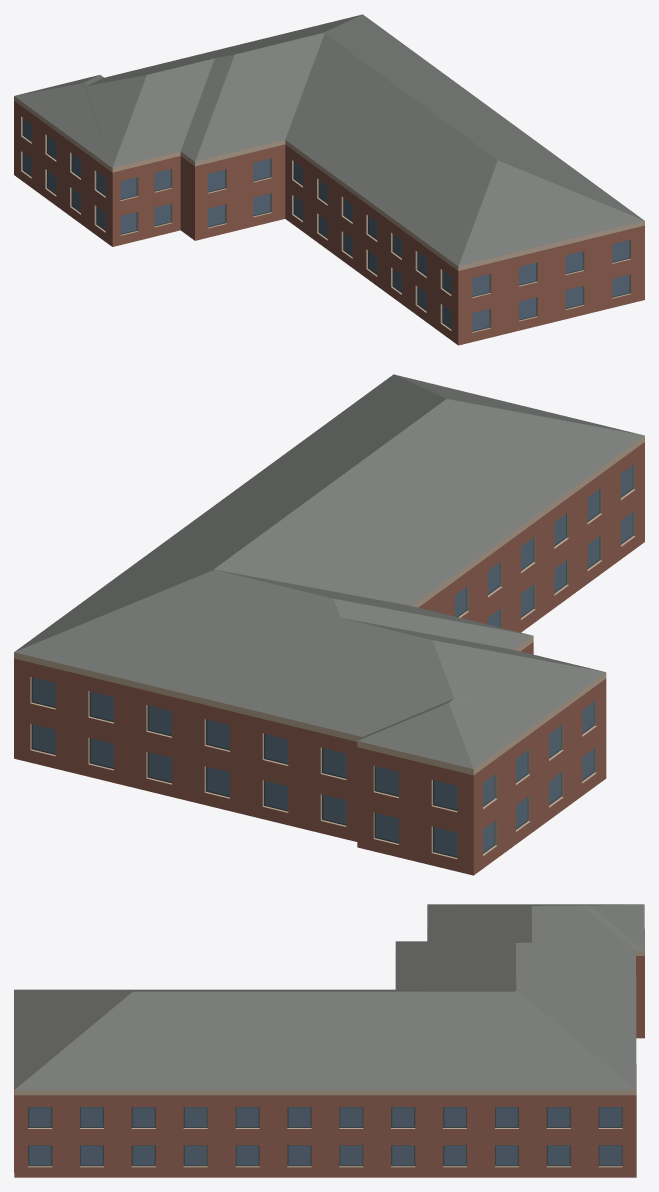
Rendered from dc-au-roper-hall.detail.glb.
3 renders of one model, top to bottom at view 1: azimuth 30°, elevation 25°; view 2: azimuth 150°, elevation 25°; view 3: azimuth 270°, elevation 25°, orthographic. The views are drawn at different scales.
Visible parts, largest first — view 1: Roper Hall; view 2: Roper Hall; view 3: Roper Hall.
Boxes of the visible parts, <box> form: Roper Hall: <box>14,14,644,345</box>; Roper Hall: <box>14,374,644,875</box>; Roper Hall: <box>14,904,644,1177</box>.
Size of the model in its own units: 25.13 by 8.59 by 36.06.
